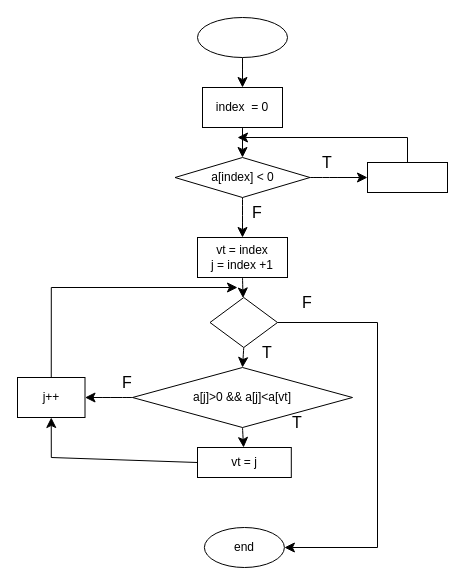
The diagram is 465 pixels wide and 585 high, and some of its shapes have lost their labels. The centre of each missing label's shape, as x and y in pixels:
"begin" goes at point 242,37.
"index++" goes at point 407,177.
"j<n" goes at point 243,322.
